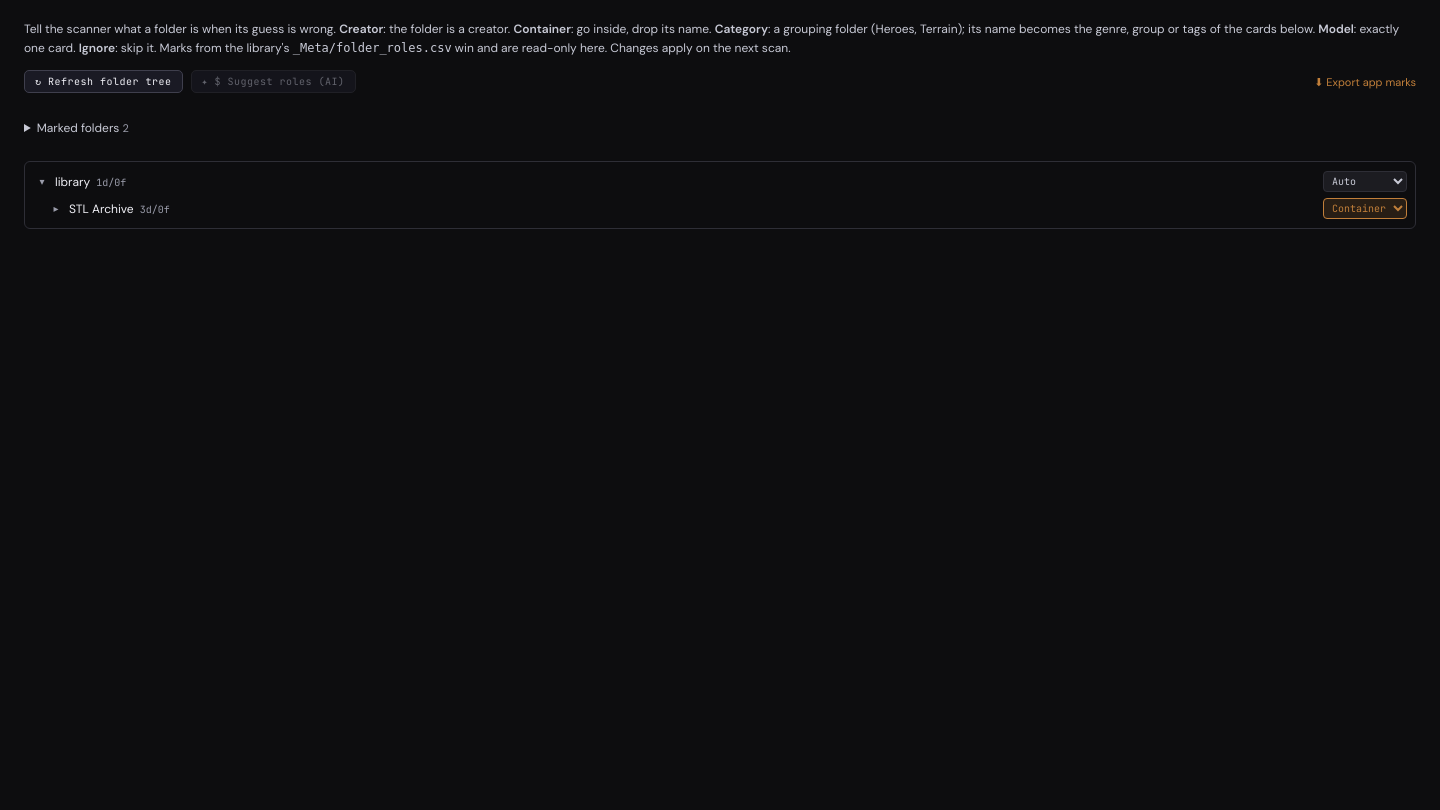
Test case: Folder Roles panel › Category saves at once, then genre / group / tags inputs refine it
Click the button named "Expand STL Archive" at {"x": 56, "y": 209}, box [49,203,63,214]
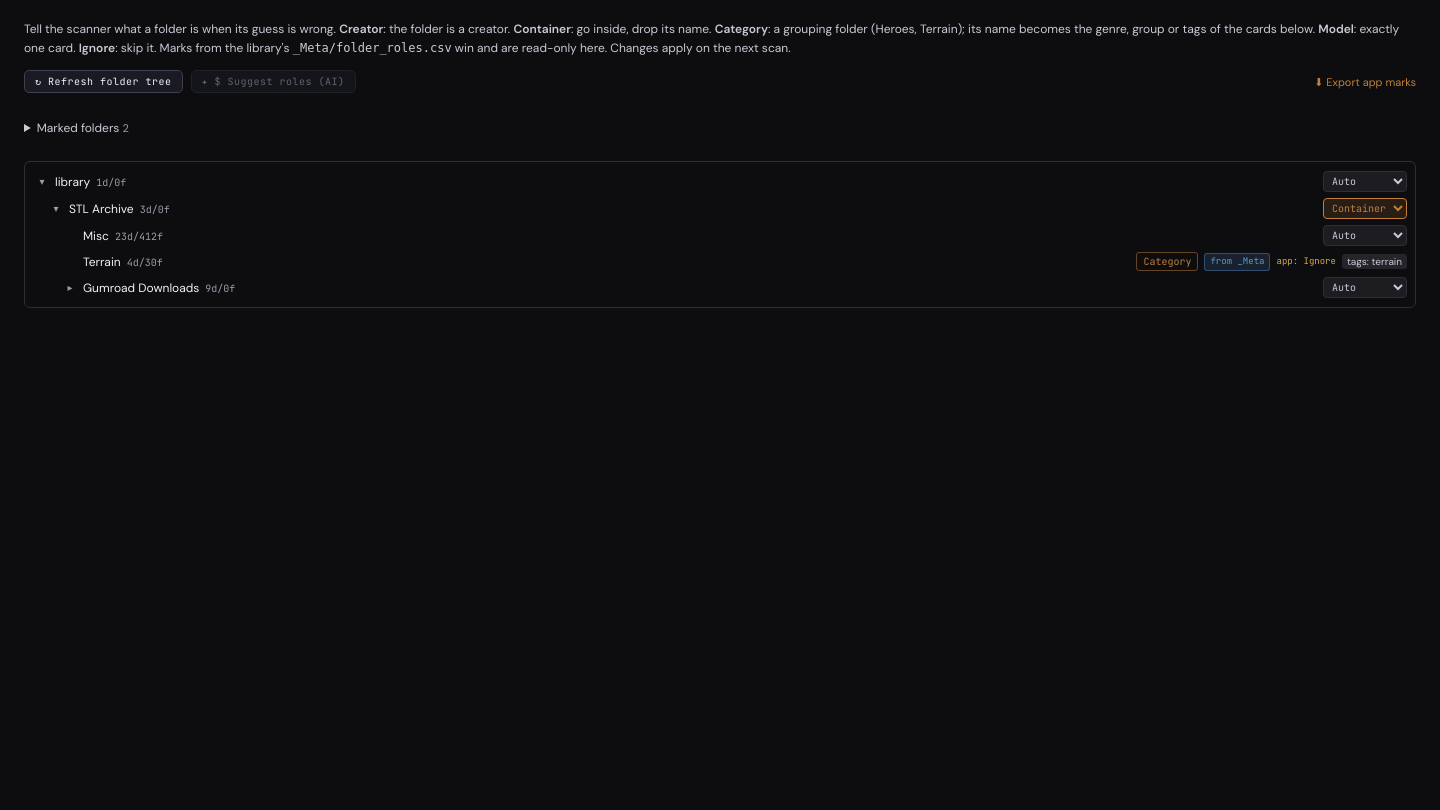
Select "Category" in the dropdown named "Role for Misc" at {"x": 1365, "y": 236}, box [1323,225,1407,246]
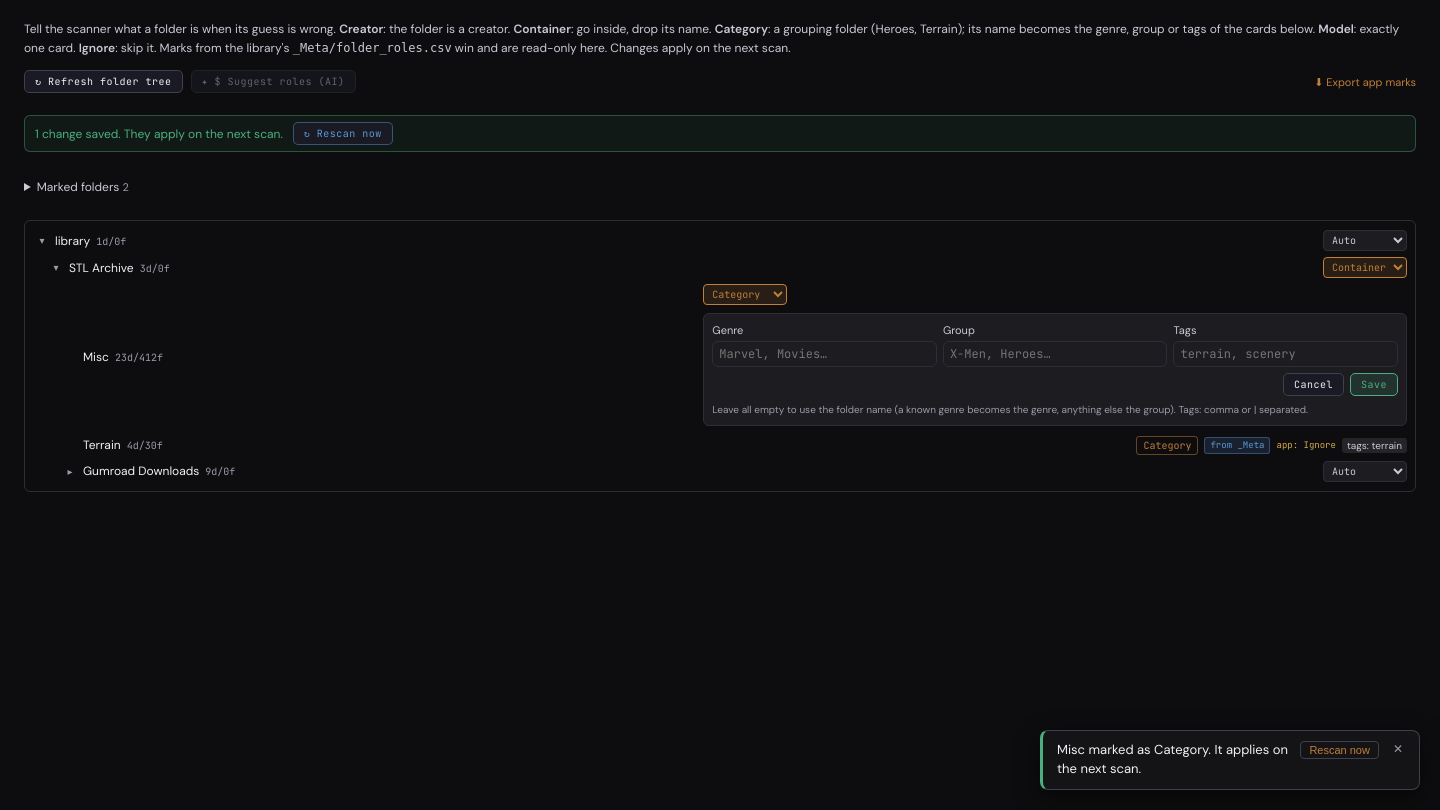
Type "Fantasy" into the field labelled "Genre" at {"x": 825, "y": 354}, box [712,341,937,367]
Type "Heroes" into the field labelled "Group" at {"x": 1055, "y": 354}, box [943,341,1168,367]
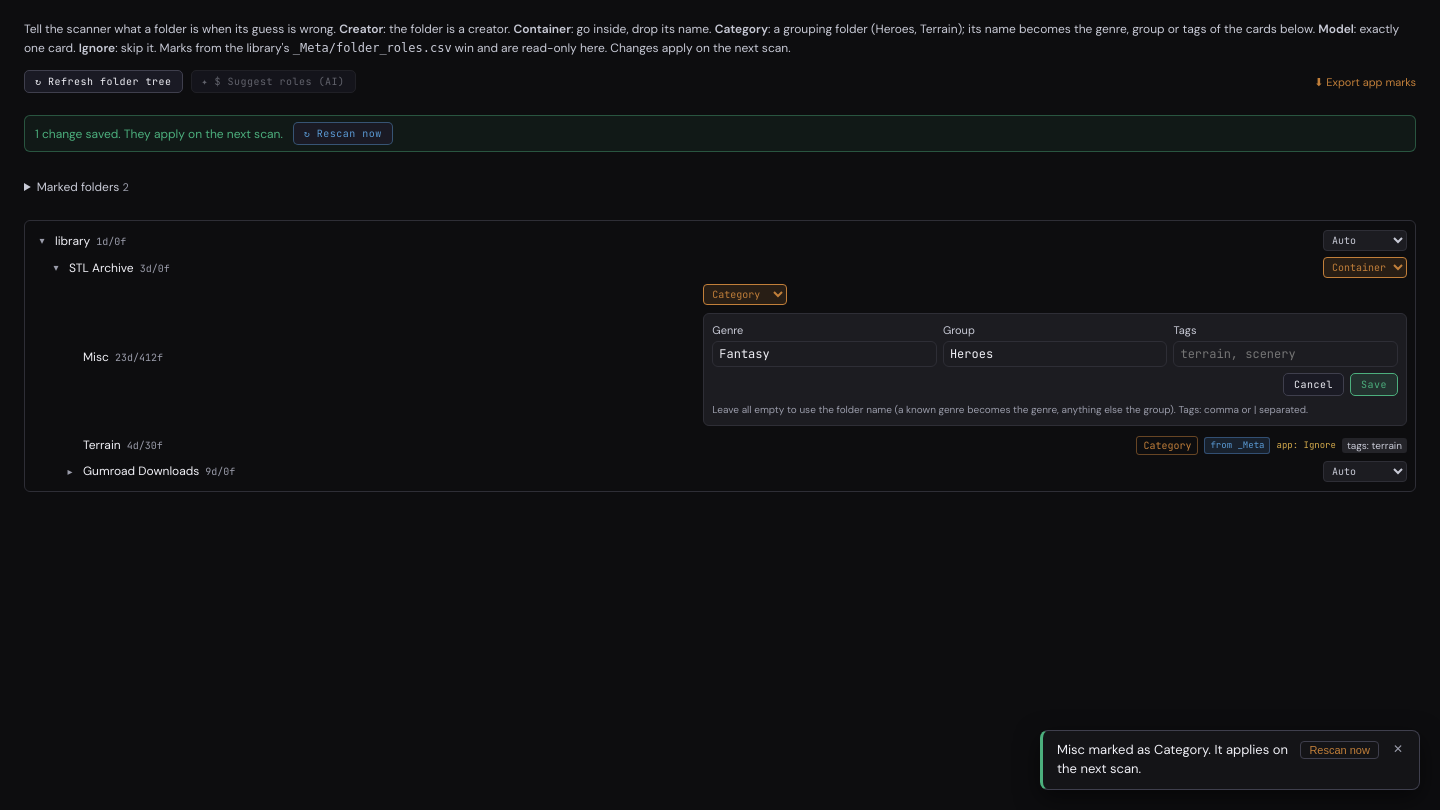
Type "terrain | scenery, bases" into the field labelled "Tags" at {"x": 1286, "y": 354}, box [1173,341,1398,367]
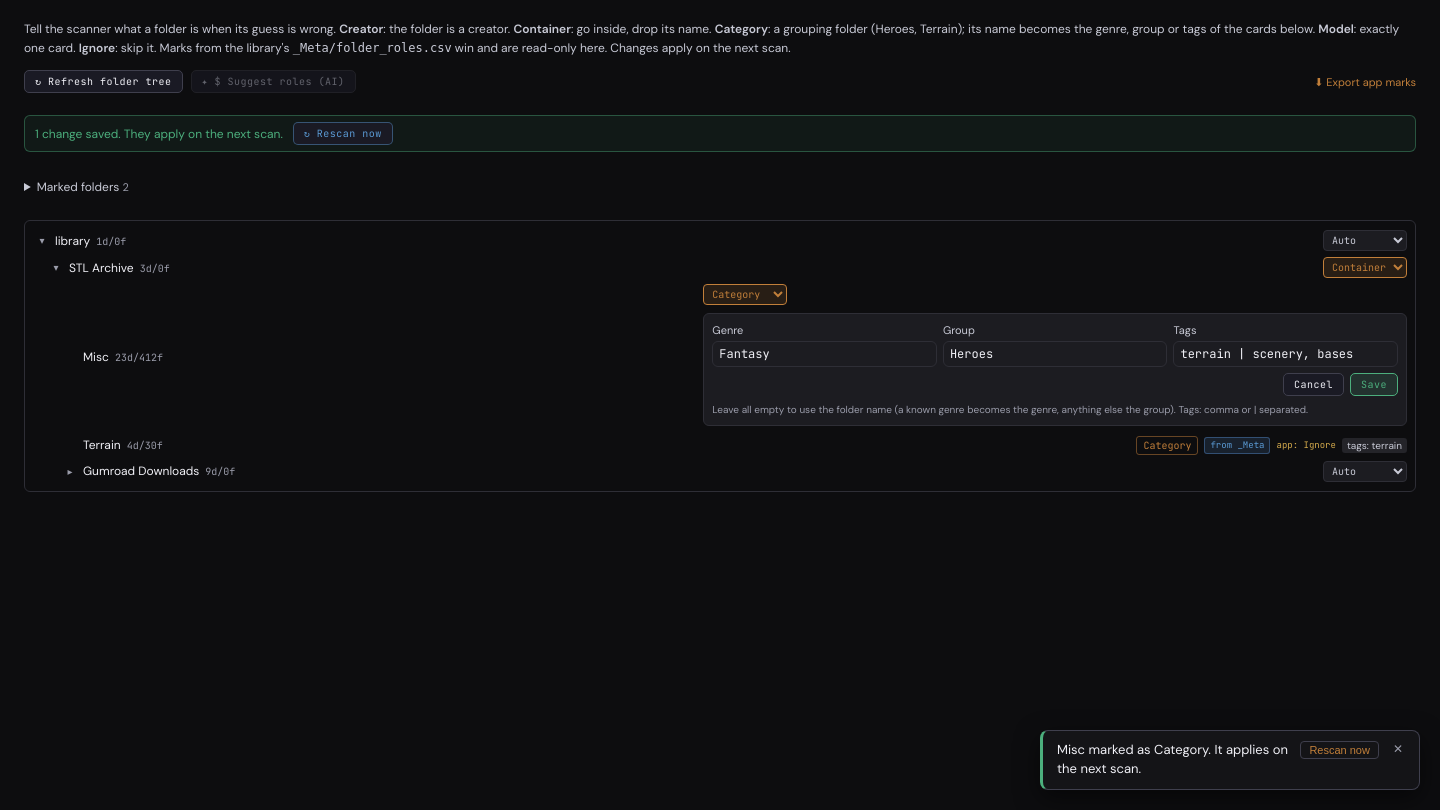
Click the button "Save" at {"x": 1374, "y": 384}, box [1350,373,1398,396]
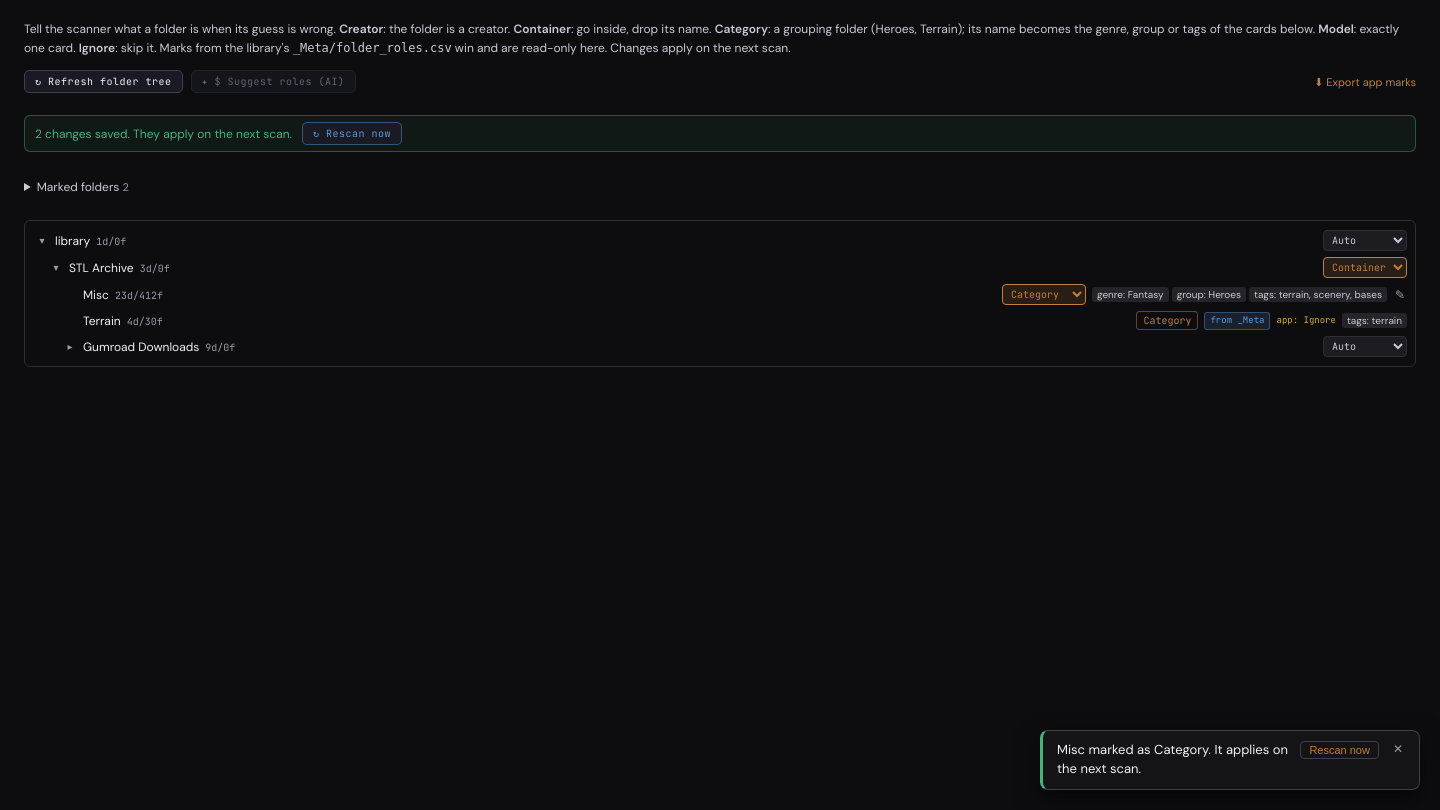
Now the text "genre: Fantasy" is shown, box [1092,287,1169,302]
Now the text "tags: terrain, scenery, bases" is shown, box [1249,287,1387,302]
Click the button named "Edit category values for Misc" at {"x": 1400, "y": 295}, box [1393,288,1407,302]
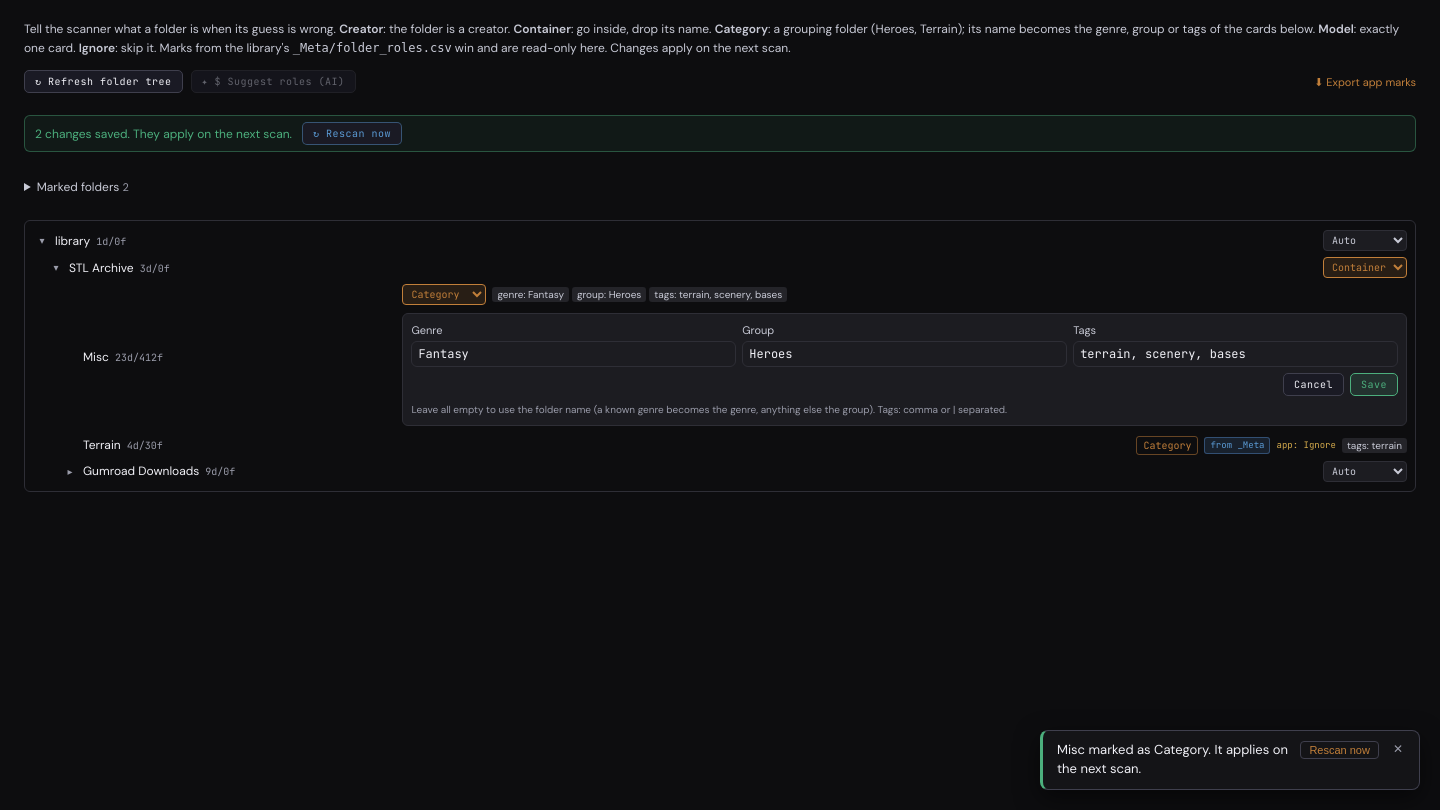
Now the form named "Category values for Misc" is shown, box [402,313,1407,426]
